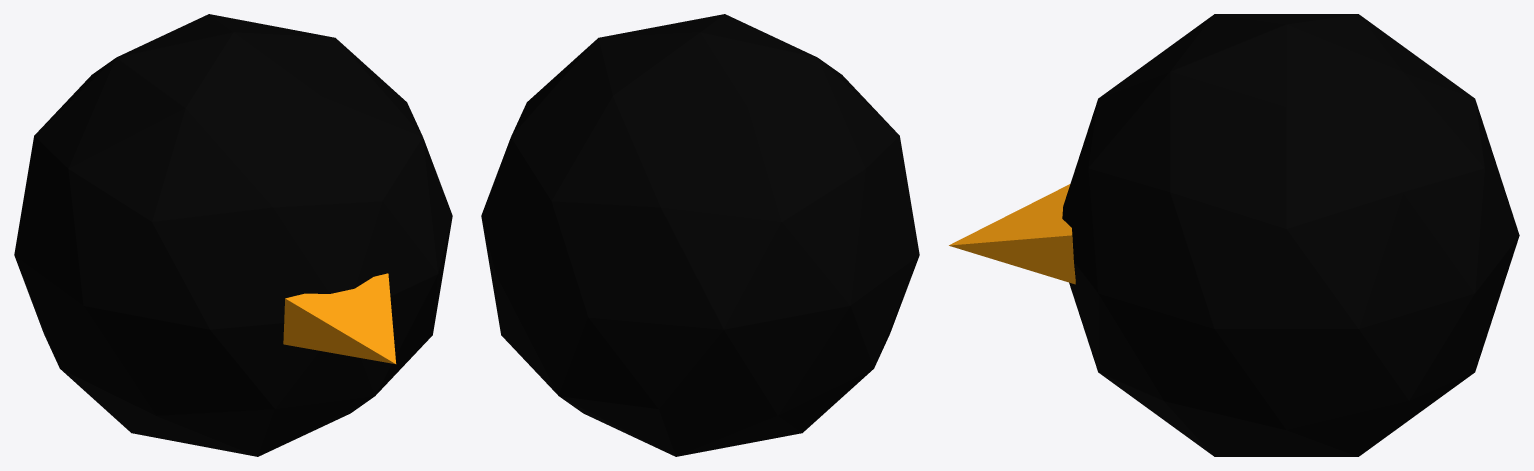
File: penguinHeadBeak.obj
The picture shows the model from 3 angles, left to right: view 1: azimuth 30°, elevation 25°; view 2: azimuth 150°, elevation 25°; view 3: azimuth 270°, elevation 25°; orthographic projection. The views are drawn at different scales.
Parts seen in each view (by area): view 1: Head, Beak; view 2: Head; view 3: Head, Beak.
Part boxes in pixels (x1,y1,x2,y2): Head: [14, 14, 452, 456]; Beak: [283, 273, 396, 364]; Head: [481, 14, 919, 456]; Head: [1062, 14, 1519, 456]; Beak: [949, 184, 1075, 284].
Size of the model in its own units: 0.4316 by 0.4538 by 0.5564.
Materials: 1 (1 with a texture image).
